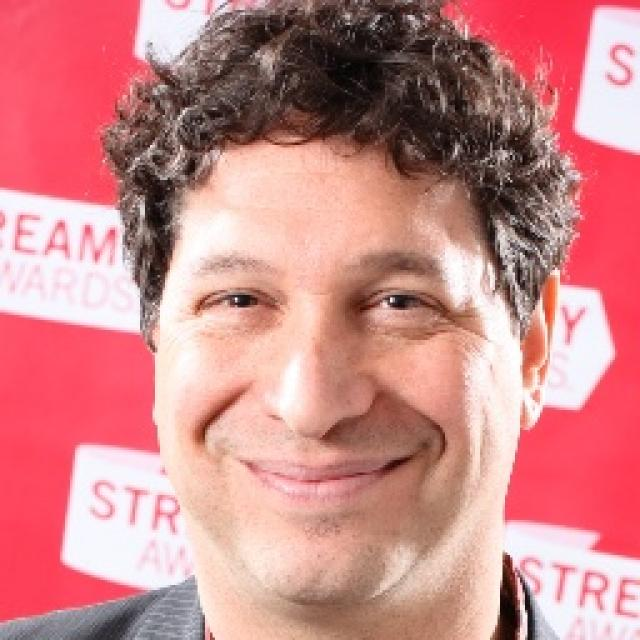earlobe: (517, 384, 543, 434)
eye: (361, 290, 438, 318), (205, 286, 273, 314)
nose: (269, 416, 371, 455)
wholeear: (516, 266, 561, 434)
